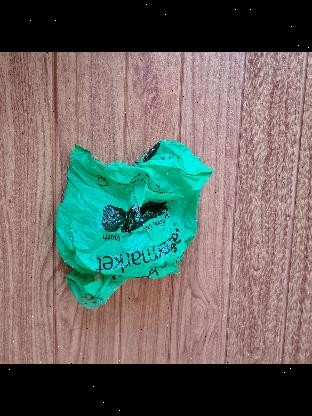Others: (54, 137, 218, 311)
